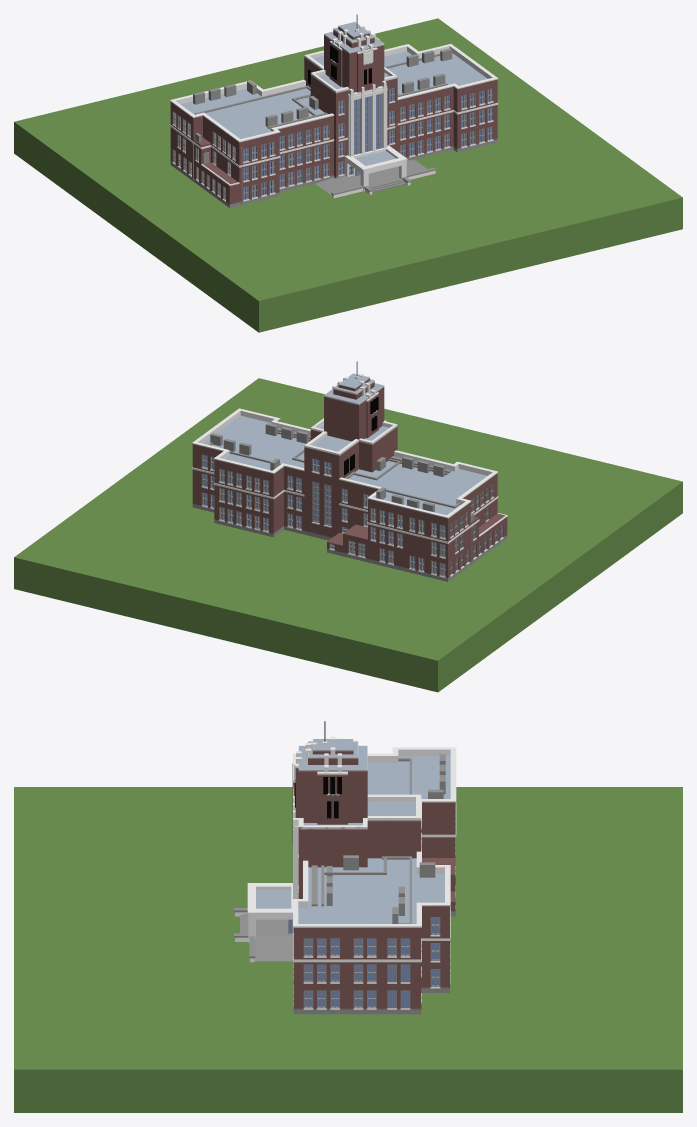
The model's file is cnu-main-building.glb.
The picture shows the model from 3 angles, top to bottom: view 1: azimuth 30°, elevation 25°; view 2: azimuth 150°, elevation 25°; view 3: azimuth 270°, elevation 25°; orthographic projection. The views are drawn at different scales.
Visible parts, largest first — view 1: a1; view 2: a1; view 3: a1.
Boxes of the visible parts, x1=… form: a1: x1=14, y1=14, x2=682, y2=332; a1: x1=14, y1=361, x2=682, y2=692; a1: x1=14, y1=721, x2=682, y2=1112.
Size of the model in its own units: 140 by 57.8 by 140.
1 material, 1 textured.
